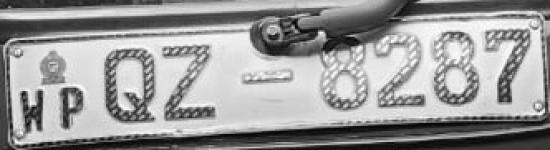-: (241, 68, 295, 90)
2: (375, 30, 430, 110)
7: (482, 24, 535, 106)
8: (315, 34, 371, 112), (433, 28, 480, 106)
P: (58, 83, 90, 129)
Q: (101, 41, 161, 126)
W: (17, 88, 52, 135)
Z: (160, 42, 227, 126)
